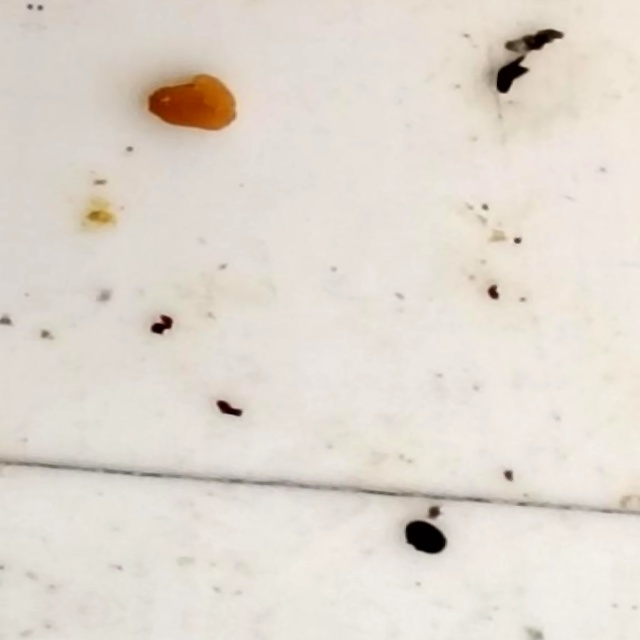varroa: (404, 519, 452, 558)
